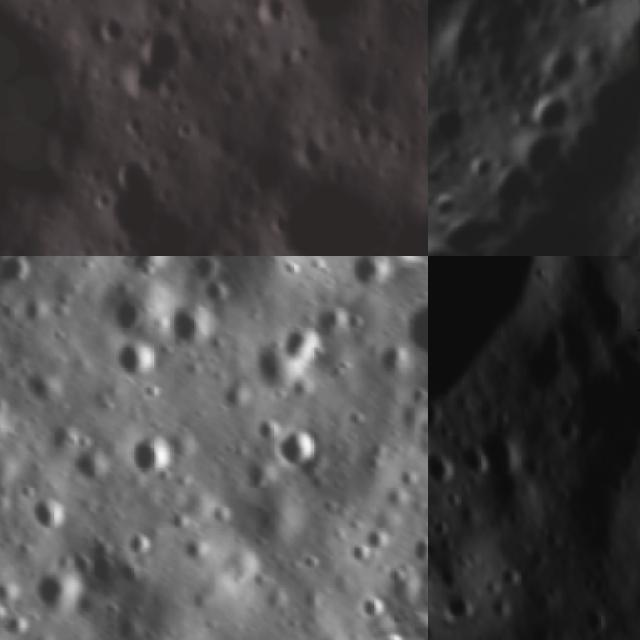crater: (0, 0, 87, 221), (271, 168, 394, 256), (279, 0, 414, 62), (505, 316, 586, 403), (590, 0, 640, 107), (474, 407, 538, 485), (516, 74, 586, 142), (30, 556, 91, 620), (265, 417, 327, 475), (428, 89, 481, 155), (530, 33, 589, 92), (102, 328, 158, 385), (110, 521, 168, 574), (125, 425, 181, 479), (98, 148, 158, 196), (272, 318, 326, 369), (428, 431, 472, 490), (67, 430, 116, 480), (140, 18, 186, 71), (20, 492, 71, 534), (0, 256, 54, 292), (165, 304, 208, 349), (345, 256, 400, 289), (460, 144, 503, 186), (195, 274, 236, 312), (578, 600, 616, 640), (93, 6, 130, 46), (402, 304, 428, 358), (356, 585, 395, 621), (112, 256, 172, 277), (399, 377, 428, 414), (189, 256, 234, 279), (0, 563, 27, 600), (0, 610, 31, 640), (408, 523, 428, 566), (0, 603, 12, 626)
